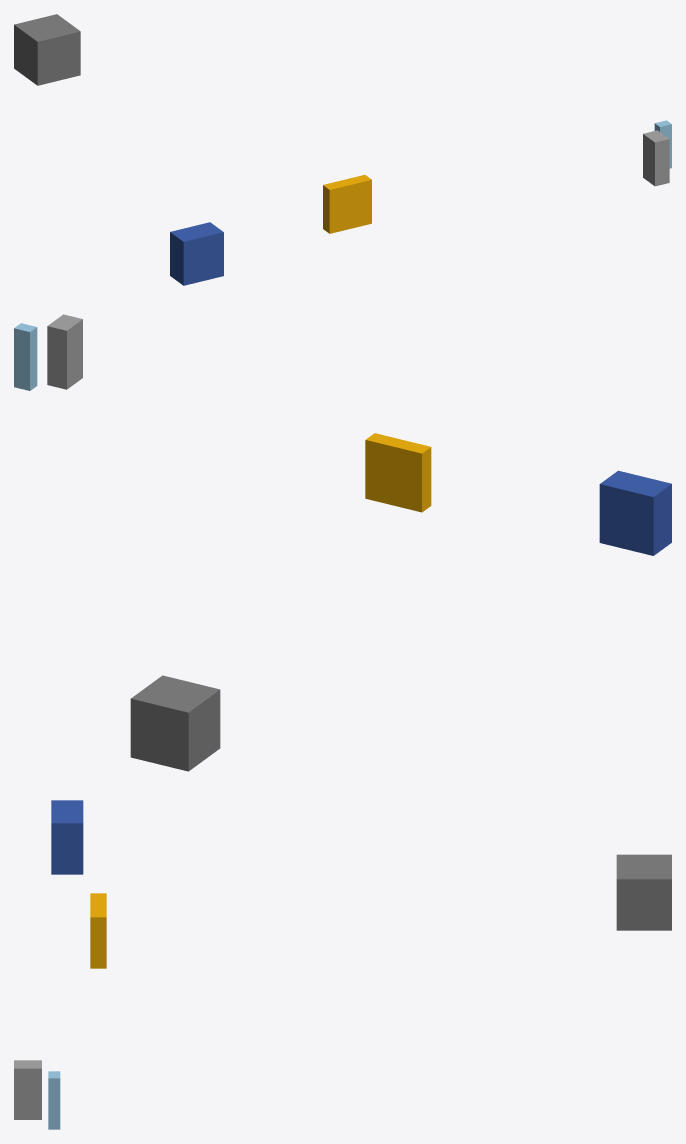
Rendered from NewObstaclesShorter.dae.
3 renders of one model, top to bottom at view 1: azimuth 30°, elevation 25°; view 2: azimuth 150°, elevation 25°; view 3: azimuth 270°, elevation 25°, orthographic. The views are drawn at different scales.
Parts seen in each view (by area): view 1: Part 15, Part 19, Part 16, Part 18; view 2: Part 15, Part 19, Part 16, Part 18, Part 17; view 3: Part 15, Part 19, Part 18, Part 16, Part 17.
Part boxes in pixels (bbox=[...]): Part 15: bbox=[14, 14, 80, 85]; Part 19: bbox=[170, 222, 223, 285]; Part 16: bbox=[323, 174, 371, 233]; Part 18: bbox=[643, 130, 669, 186]; Part 15: bbox=[130, 675, 220, 771]; Part 19: bbox=[599, 470, 671, 555]; Part 16: bbox=[365, 433, 431, 512]; Part 18: bbox=[47, 314, 82, 389]; Part 17: bbox=[14, 323, 37, 390]; Part 15: bbox=[616, 854, 671, 930]; Part 19: bbox=[51, 800, 83, 874]; Part 18: bbox=[14, 1060, 41, 1119]; Part 16: bbox=[90, 893, 106, 968]; Part 17: bbox=[48, 1071, 60, 1129].
Bounding box in the file's own units: 34.8 × 34.8 × 3.
